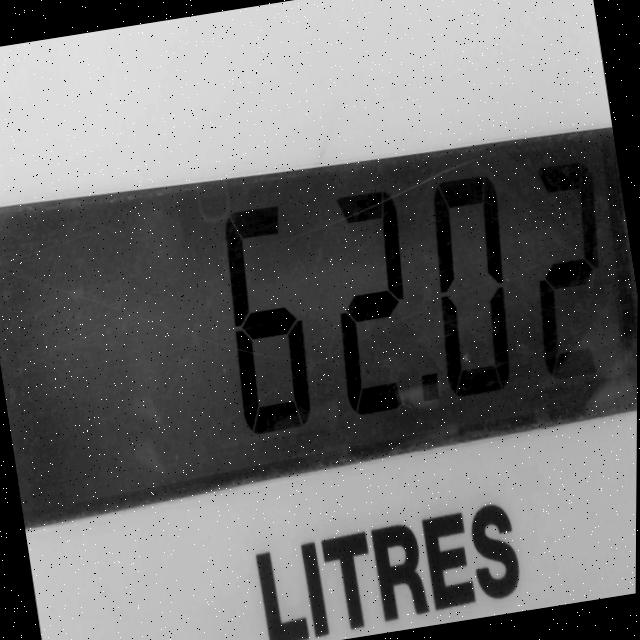.: (418, 368, 444, 409)
0: (417, 175, 524, 402)
2: (517, 154, 620, 378), (320, 190, 424, 411)
6: (217, 201, 322, 435)
